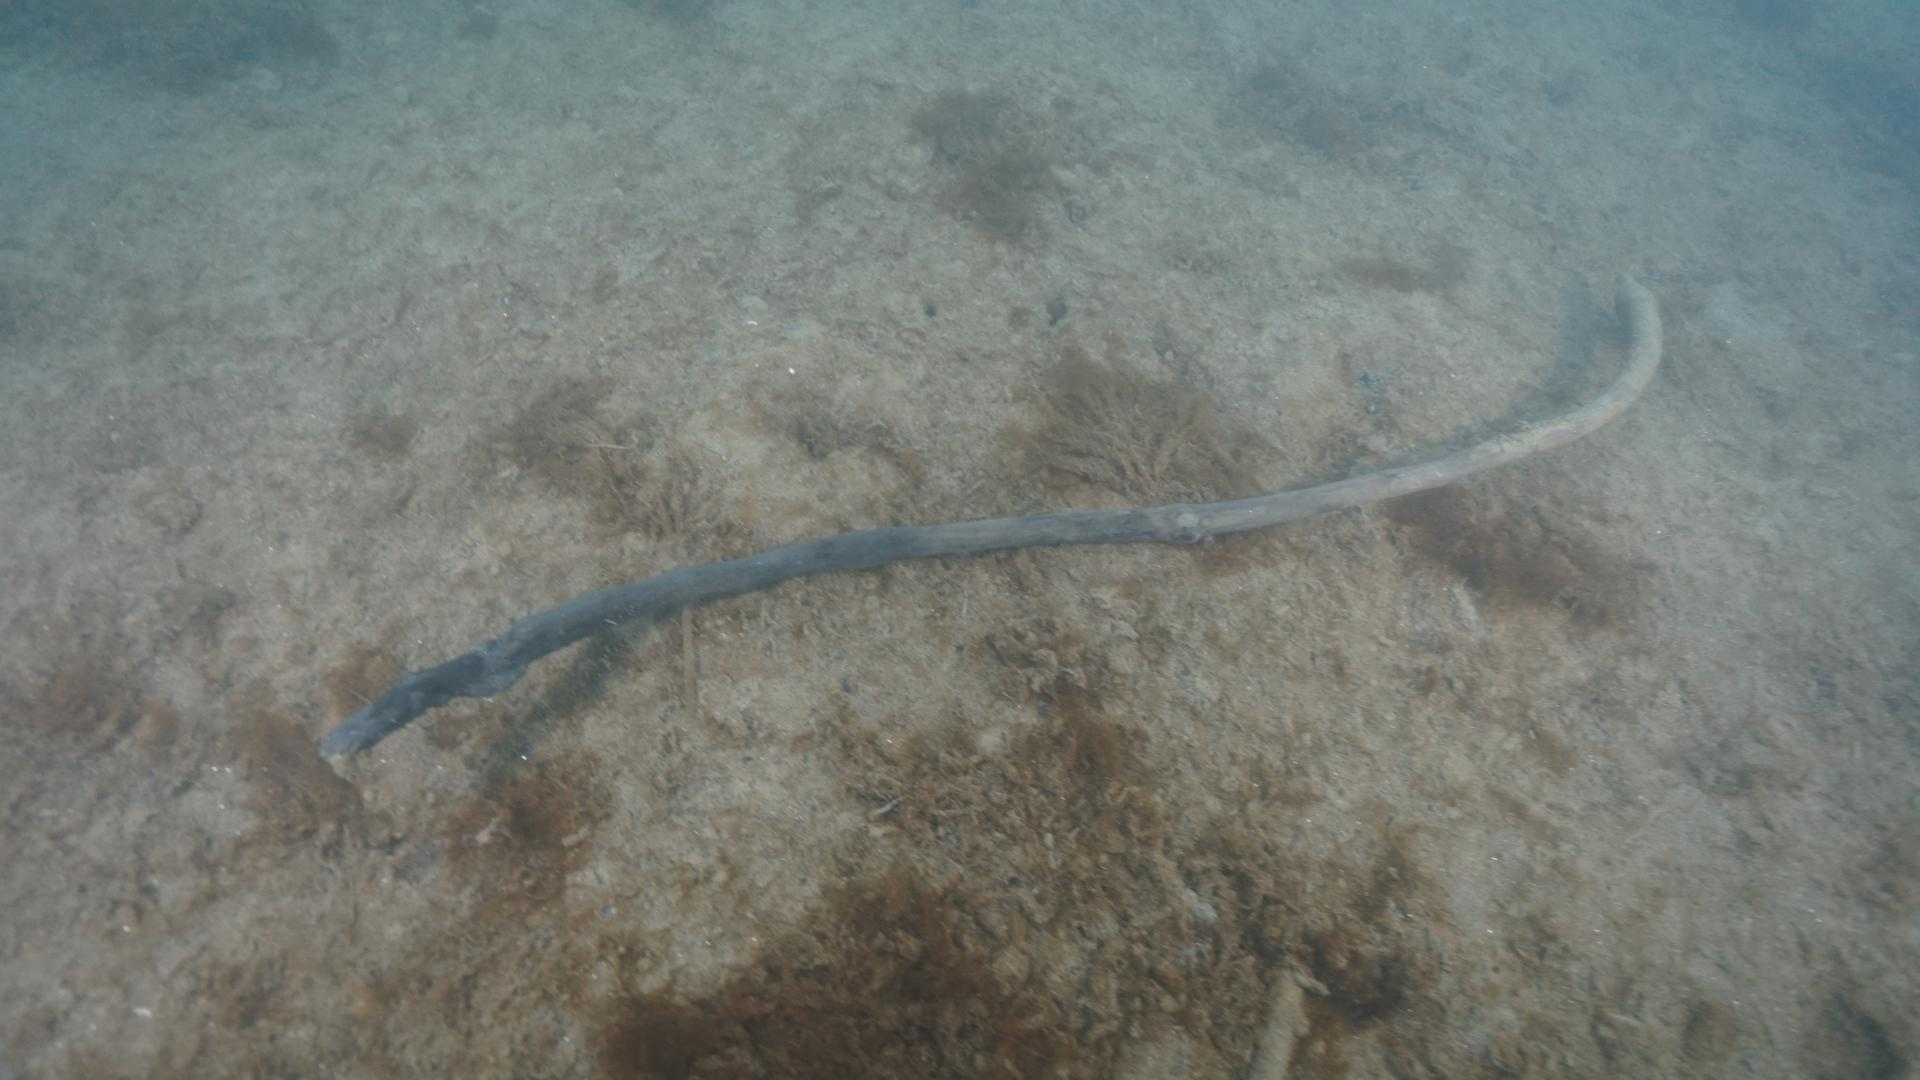wood: (309, 258, 1677, 787)
